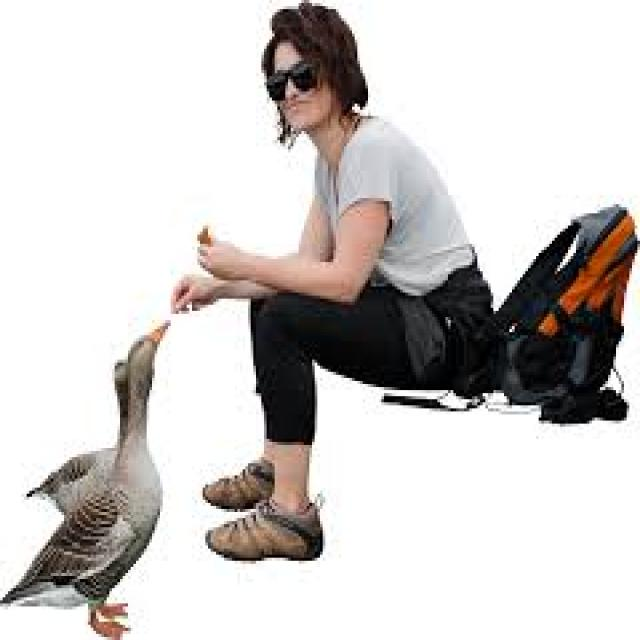nonfall: (224, 9, 488, 562)
